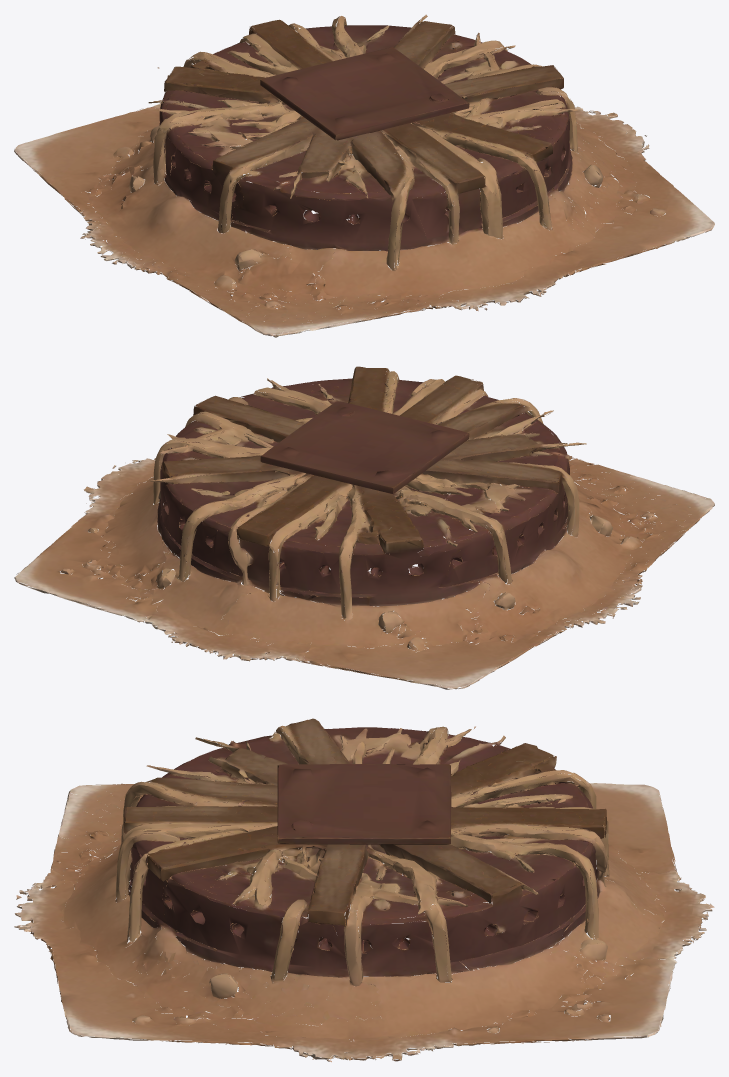
Rendered from cf_crop_mine.glb.
3 renders of one model, top to bottom at view 1: azimuth 30°, elevation 25°; view 2: azimuth 150°, elevation 25°; view 3: azimuth 270°, elevation 25°, orthographic. The views are drawn at different scales.
Parts seen in each view (by area): view 1: base; view 2: base; view 3: base.
Boxes of the visible parts, x1,y1,x2,y2 form: base: (14, 14, 714, 337); base: (14, 366, 714, 689); base: (14, 718, 714, 1062).
Size of the model in its own units: 1.86 by 0.35 by 1.86.
1 material, 1 textured.
